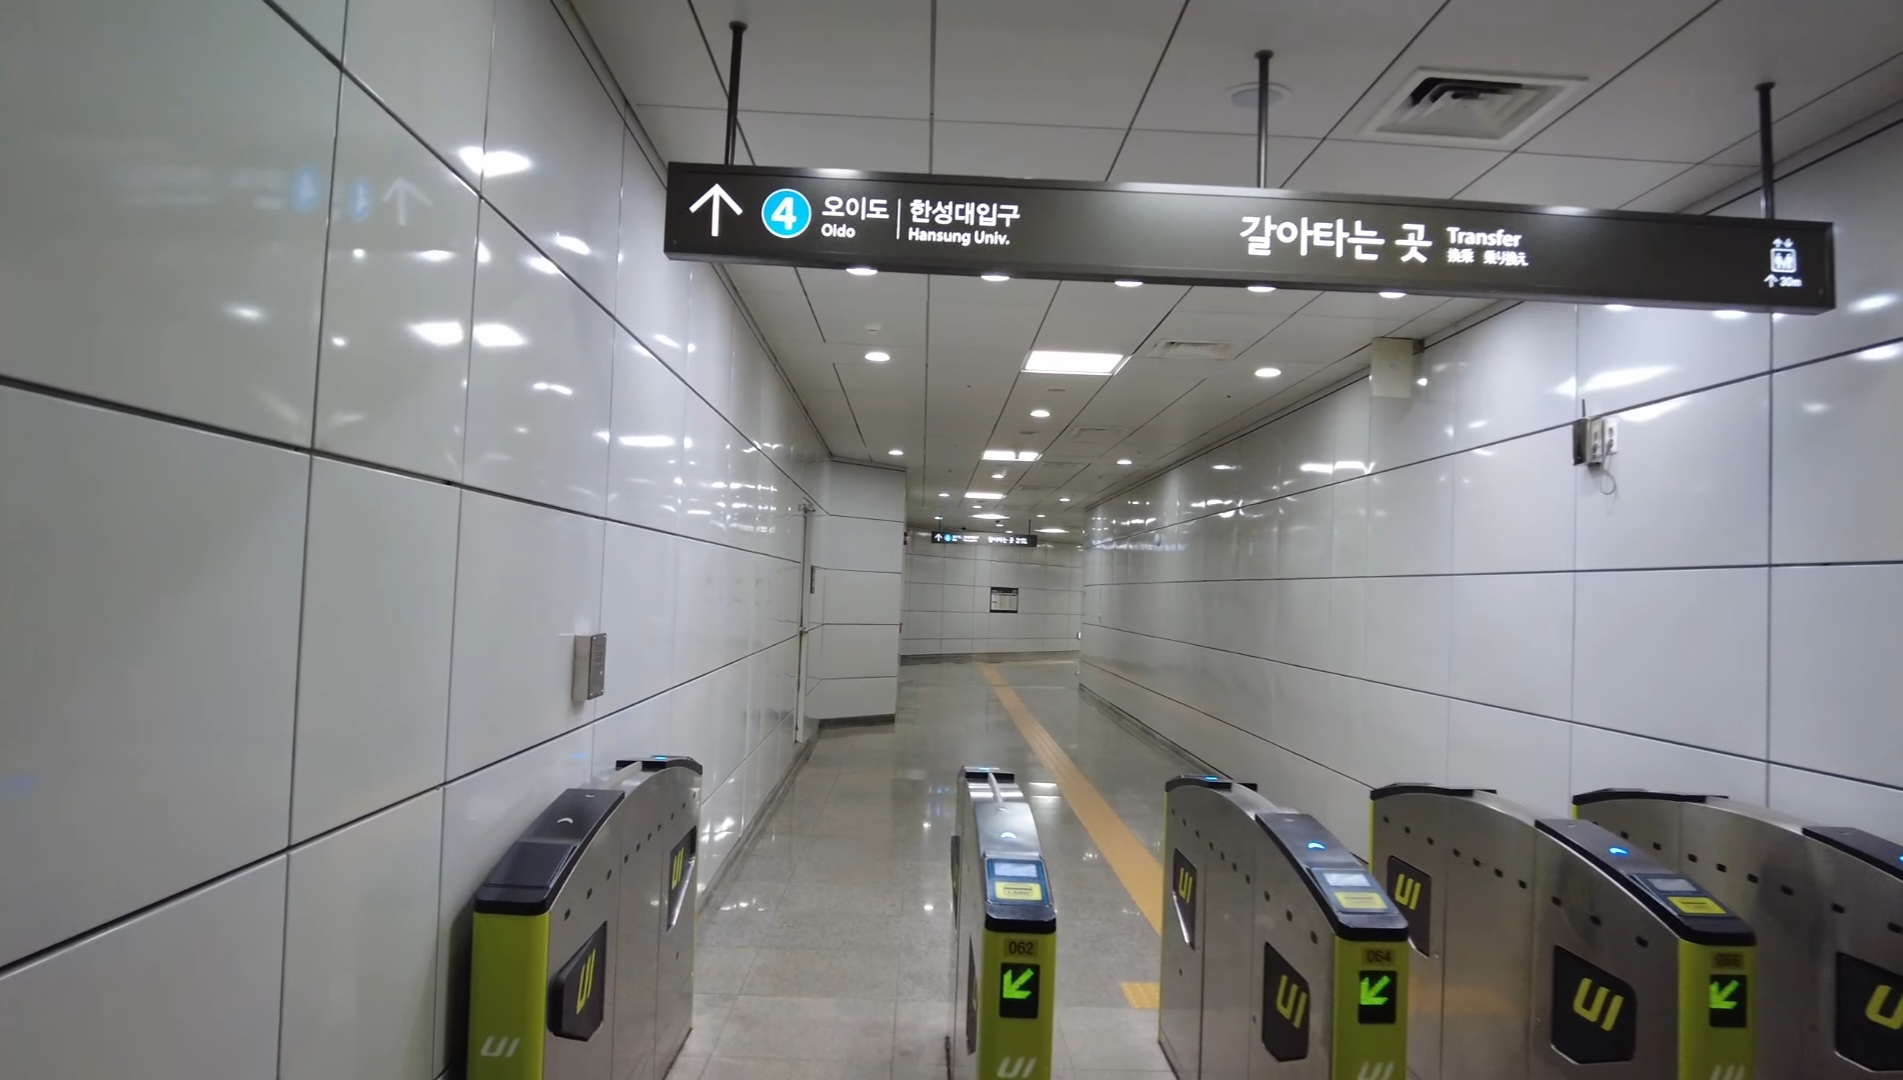signBoard: (657, 157, 1832, 316)
